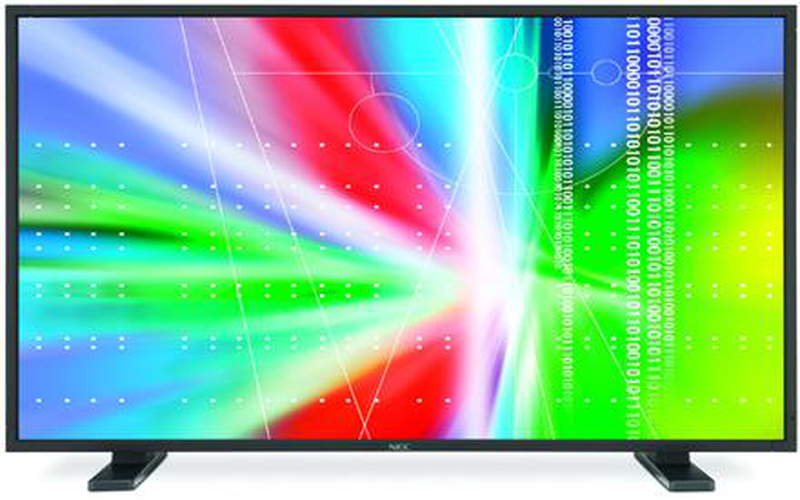LCD: (1, 0, 800, 459)
